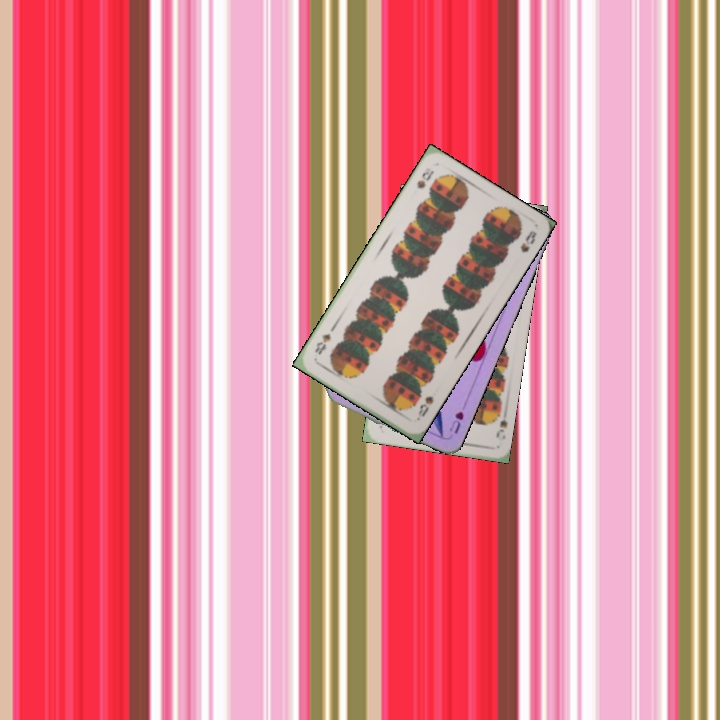HU: (445, 407, 466, 436)
S8: (412, 392, 436, 423), (413, 166, 436, 191)
S9: (490, 405, 510, 440)
